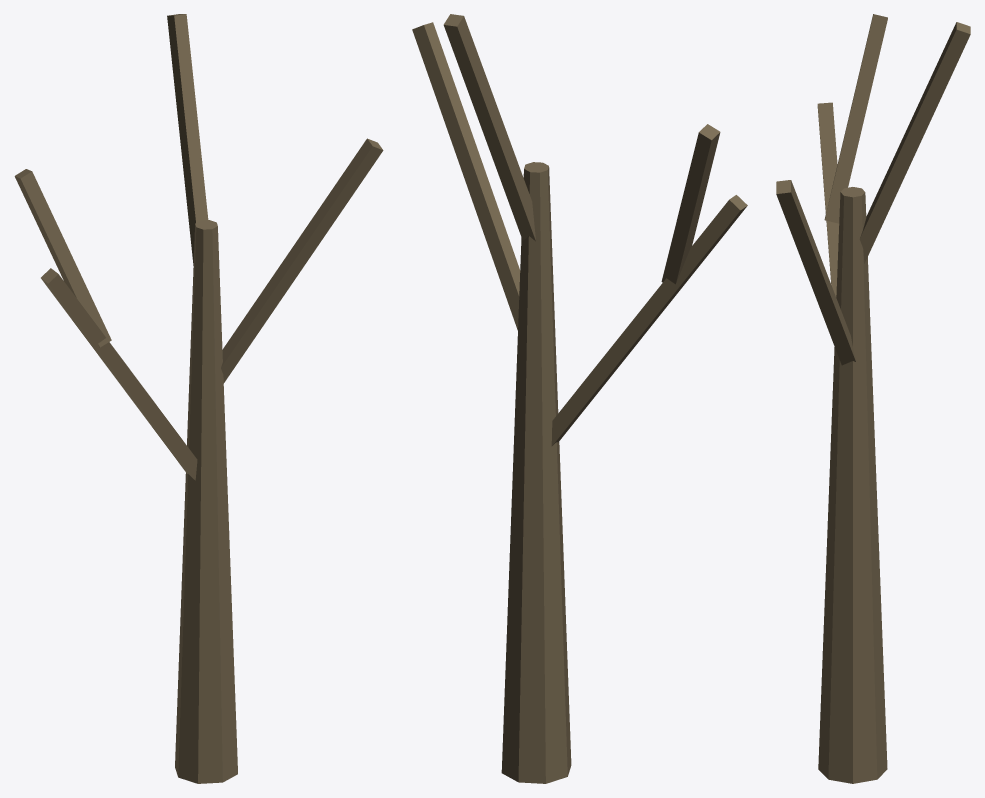
The model's file is tree-dead.glb.
3 renders of one model, left to right at view 1: azimuth 30°, elevation 25°; view 2: azimuth 150°, elevation 25°; view 3: azimuth 270°, elevation 25°, orthographic. The views are drawn at different scales.
Parts seen in each view (by area): view 1: tree-dead; view 2: tree-dead; view 3: tree-dead.
Part boxes in pixels (box(x1,y1,x2,y2)): tree-dead: box(14, 14, 383, 783); tree-dead: box(412, 14, 747, 783); tree-dead: box(776, 14, 970, 783).
Size of the model in its own units: 2.81 by 6.03 by 1.4.
